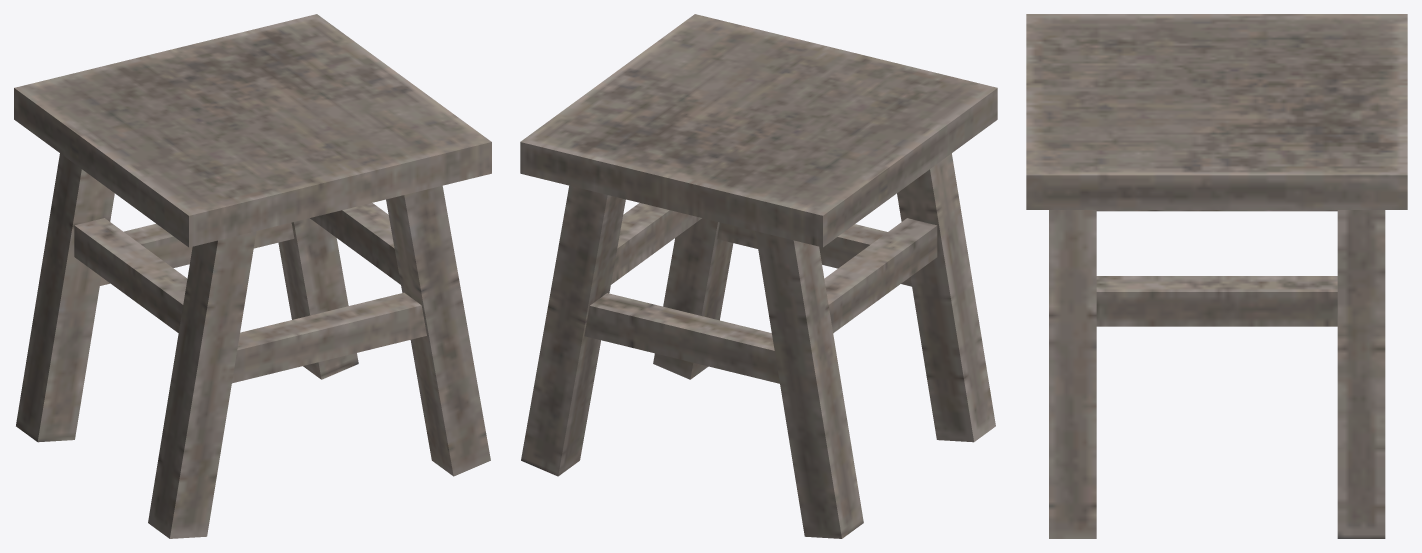
Rendered from SM_Stool.FBX.
The picture shows the model from 3 angles, left to right: view 1: azimuth 30°, elevation 25°; view 2: azimuth 150°, elevation 25°; view 3: azimuth 270°, elevation 25°; orthographic projection. The views are drawn at different scales.
Visible parts, largest first — view 1: SM_Stool; view 2: SM_Stool; view 3: SM_Stool.
Boxes of the visible parts, x1,y1,x2,y2 form: SM_Stool: (14, 14, 491, 538); SM_Stool: (520, 14, 997, 538); SM_Stool: (1026, 14, 1407, 538).
Size of the model in its own units: 42.42 by 42.35 by 40.
